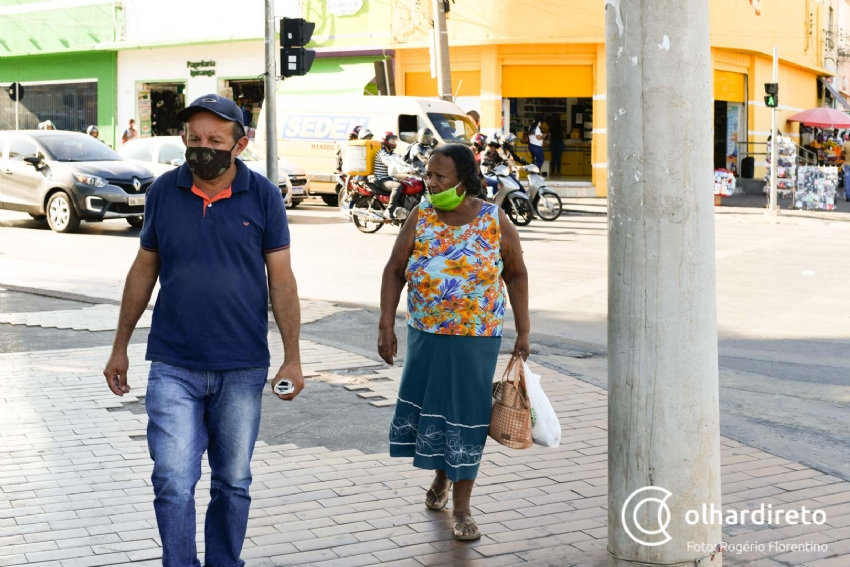mask_weared_incorrect: (422, 149, 478, 213)
with_mask: (175, 113, 253, 184)
